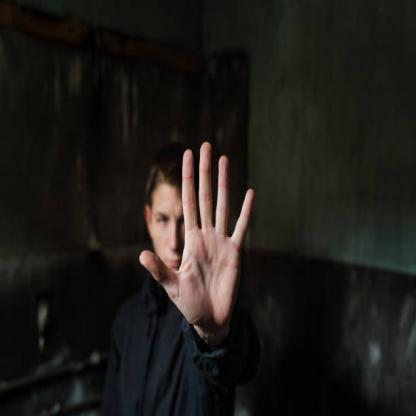stop: (136, 135, 256, 335)
